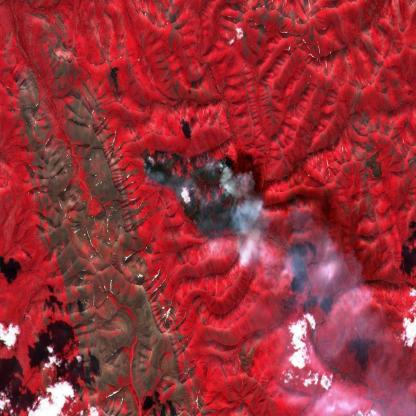fire: (139, 136, 254, 236)
